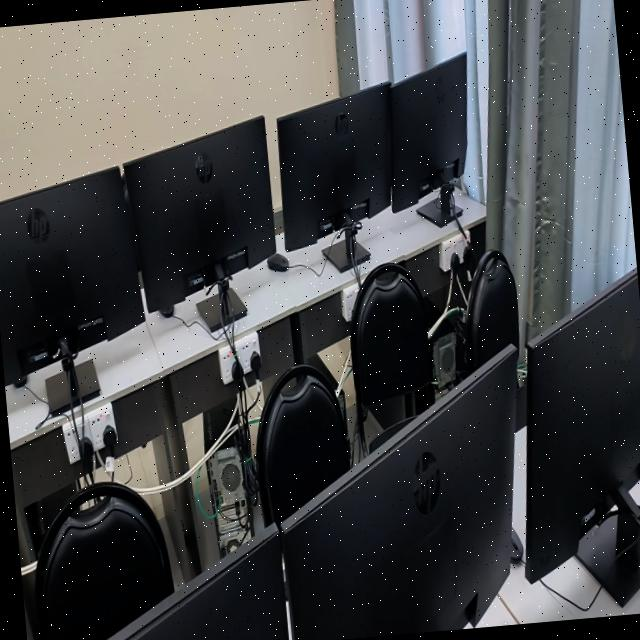Chair: (34, 482, 174, 640), (350, 262, 435, 452), (256, 364, 349, 536), (464, 250, 519, 386)
Cpu: (203, 391, 253, 562), (305, 349, 353, 466), (425, 290, 460, 402), (24, 483, 76, 554)
Monitor: (283, 347, 515, 640), (525, 267, 640, 605), (0, 167, 144, 415), (124, 117, 275, 331), (277, 84, 391, 271), (107, 530, 287, 640), (390, 53, 466, 226)
Mouse: (510, 527, 523, 562), (267, 252, 289, 271), (158, 305, 173, 317), (13, 376, 27, 387)
